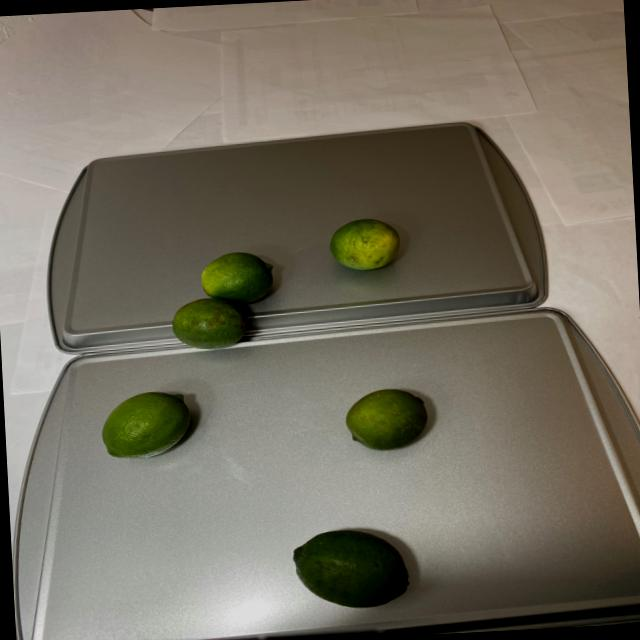lemon: (163, 217, 410, 355), (274, 526, 413, 616), (98, 382, 196, 469), (344, 388, 432, 452)
